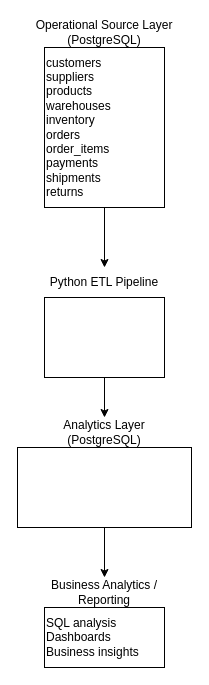
The diagram is 209 pixels wide and 685 high, and some of its shapes have lost their labels. Here are the shapes that lost their labels. From the top down, the box of each, then its label:
(44, 296, 164, 378): extract.py transform.py load.py run_pipeline.py
(16, 446, 192, 528): analytics_fact_sales analytics_monthly_revenue analytics_inventory_risk
